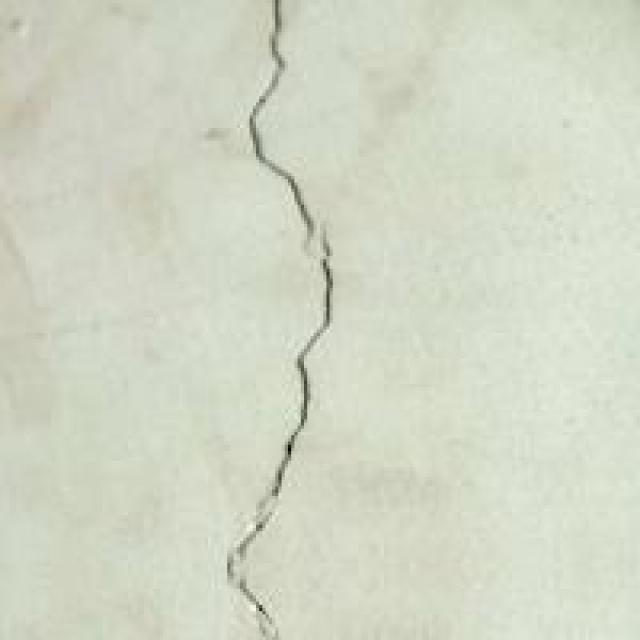Crack: (182, 3, 378, 637)
